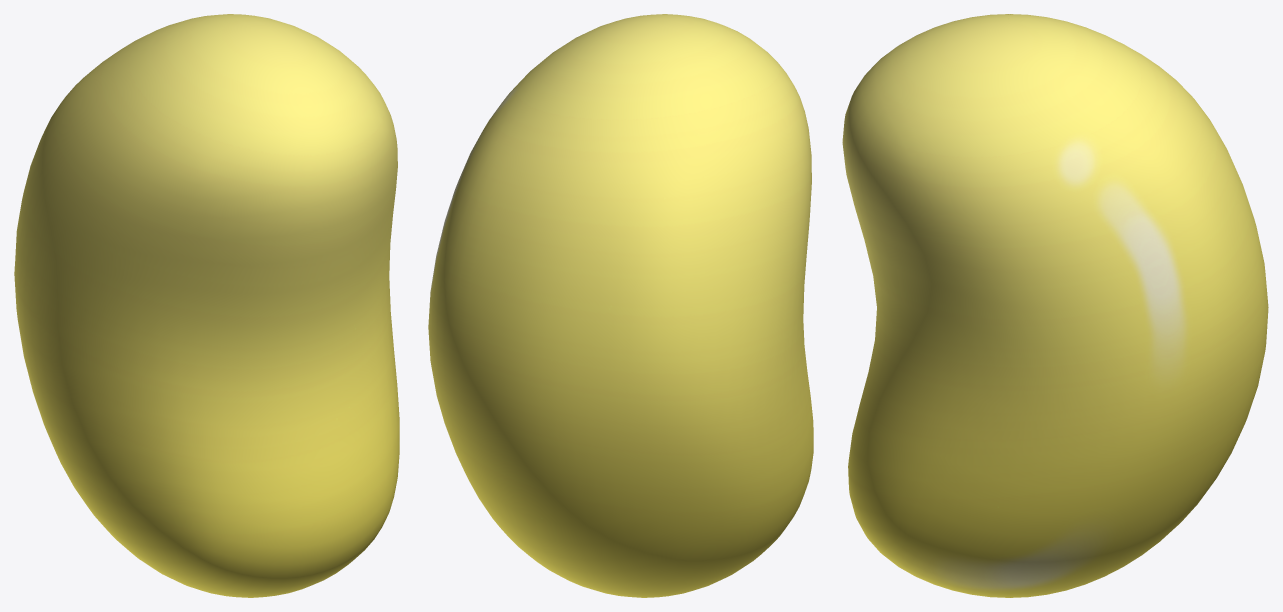
File: JellyBean_Yellow.fbx
3 renders of one model, left to right at view 1: azimuth 30°, elevation 25°; view 2: azimuth 150°, elevation 25°; view 3: azimuth 270°, elevation 25°, orthographic.
Visible parts, largest first — view 1: JellyBean; view 2: JellyBean; view 3: JellyBean.
Boxes of the visible parts, left/top/right/bottom form: JellyBean: left=14, top=14, right=399, bottom=597; JellyBean: left=428, top=14, right=813, bottom=597; JellyBean: left=842, top=14, right=1268, bottom=597.
Bounding box in the file's own units: 56.01 × 91.46 × 63.72.
Materials: 1 (1 with a texture image).
